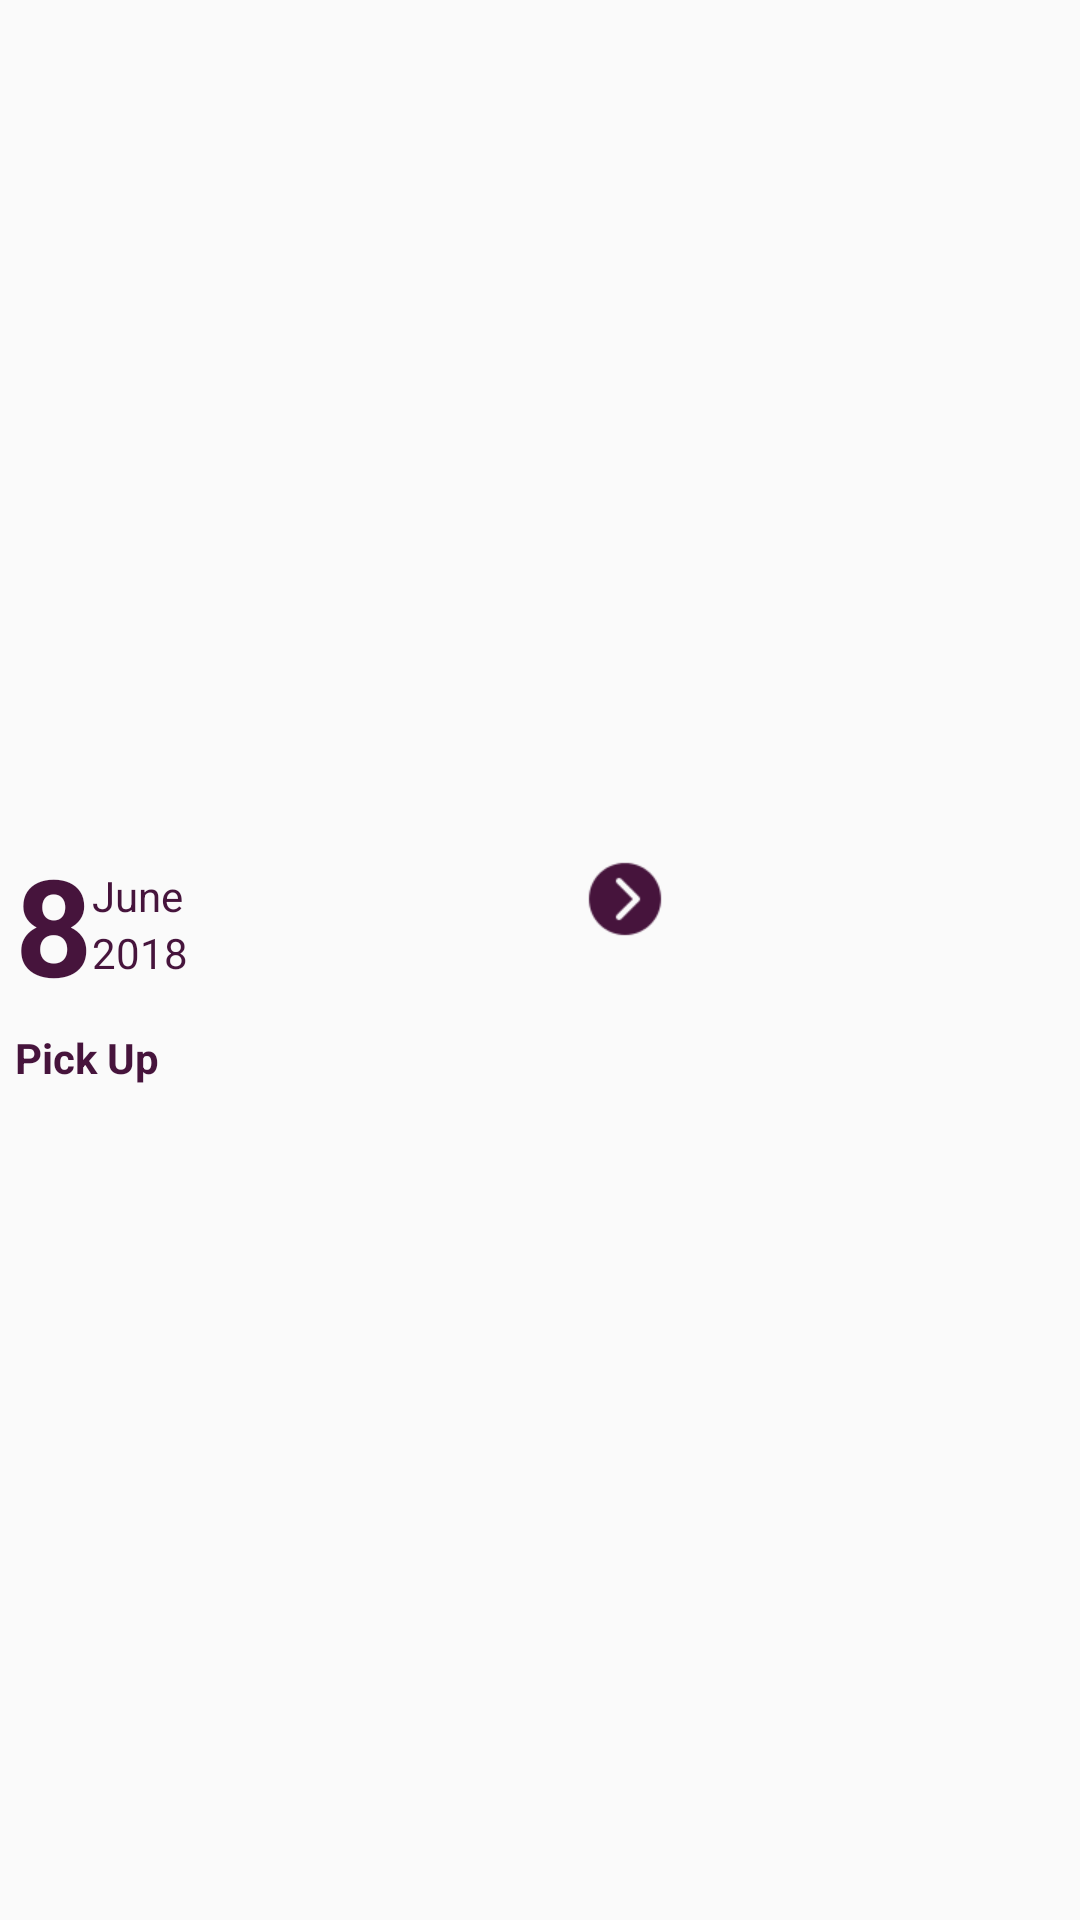

Screen size 1080w x 1920h. Icon name, then its center in pixels as (x,y):
arrow: (625,899)
